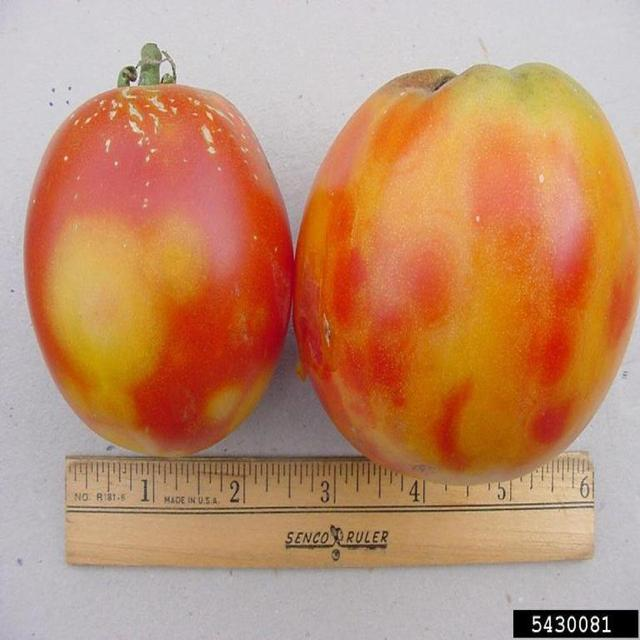Spotted wilt Virus Fruit: (106, 178, 311, 280)
